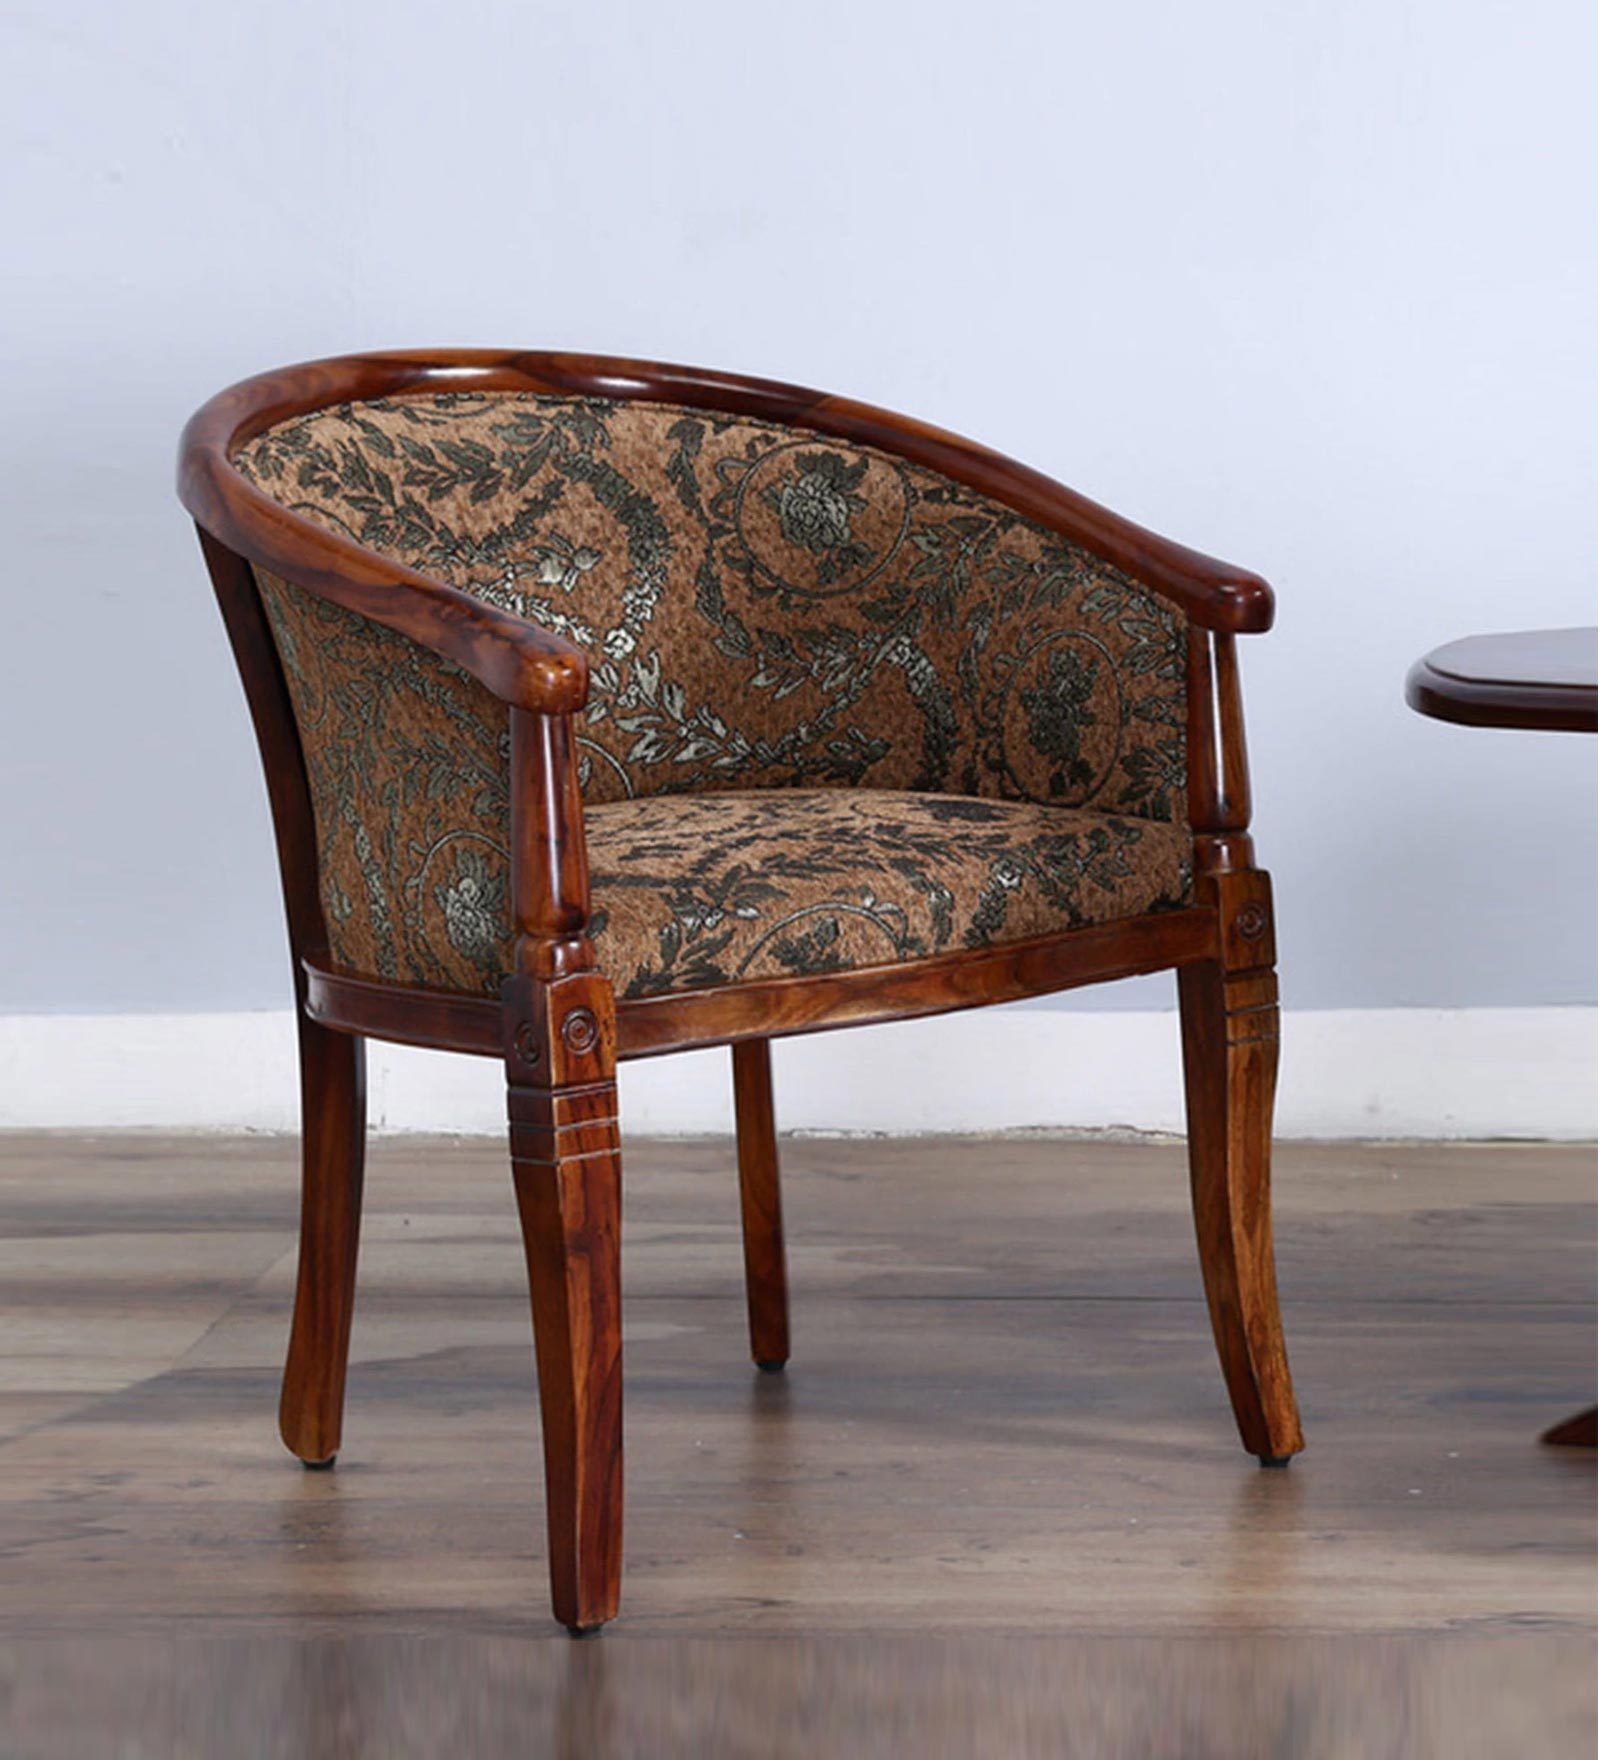Stalley Arm Chair in Honey Oak Finish by Amberville: (120, 274, 1366, 1674)
